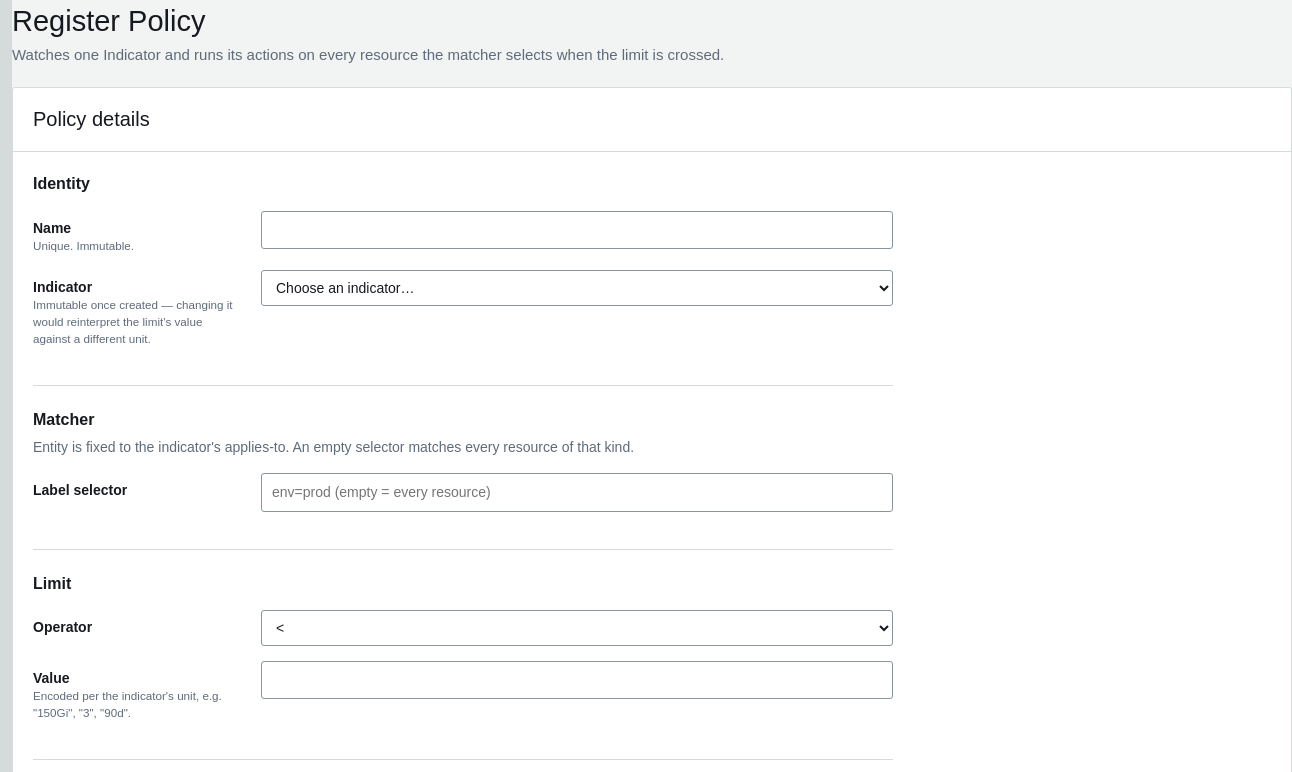
renders a whitelist-violation error inline on the offending action row
The width and height of the screenshot is (1292, 772).
Type "bad-policy" into the field labelled "Name Unique. Immutable.". click: x=577, y=230
box: [261,211,893,249]
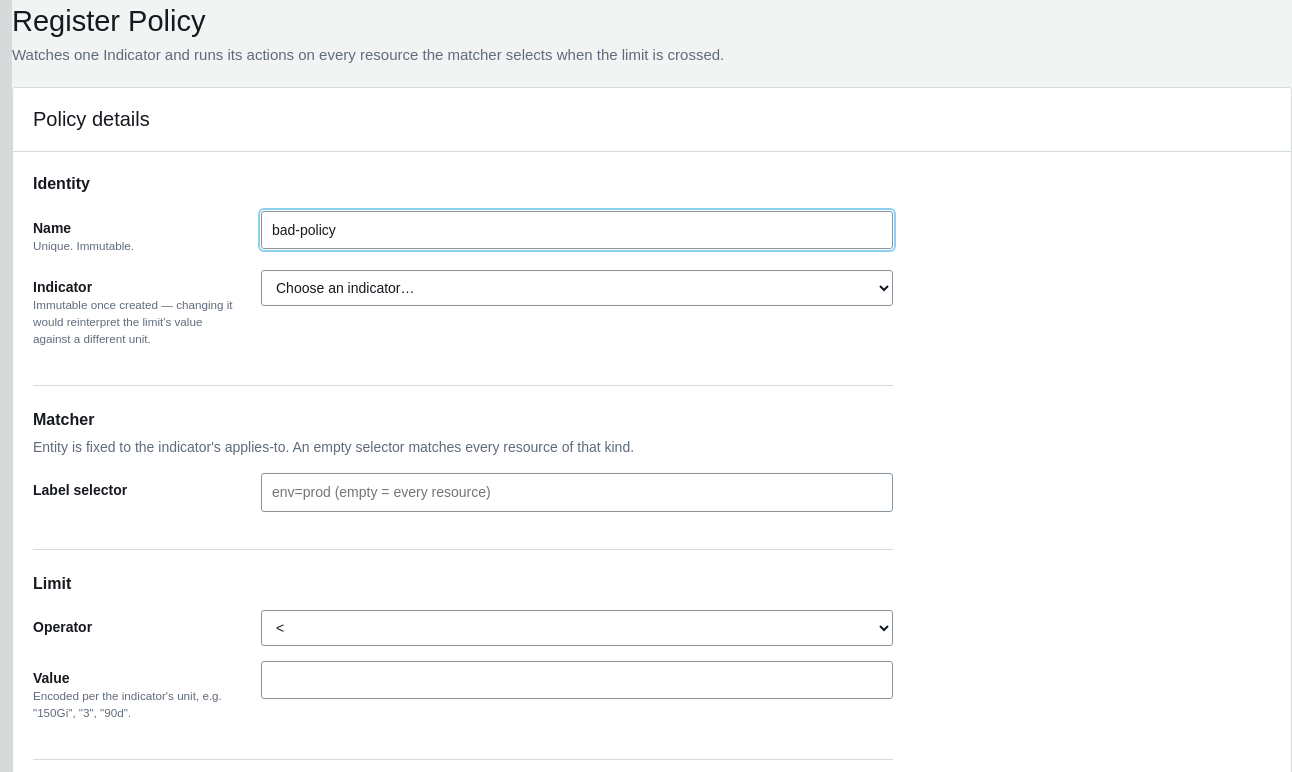
Select "kafka.topic.disk_used (bytes)" in the dropdown labelled "Indicator". click: x=577, y=288
box: [261,270,893,306]
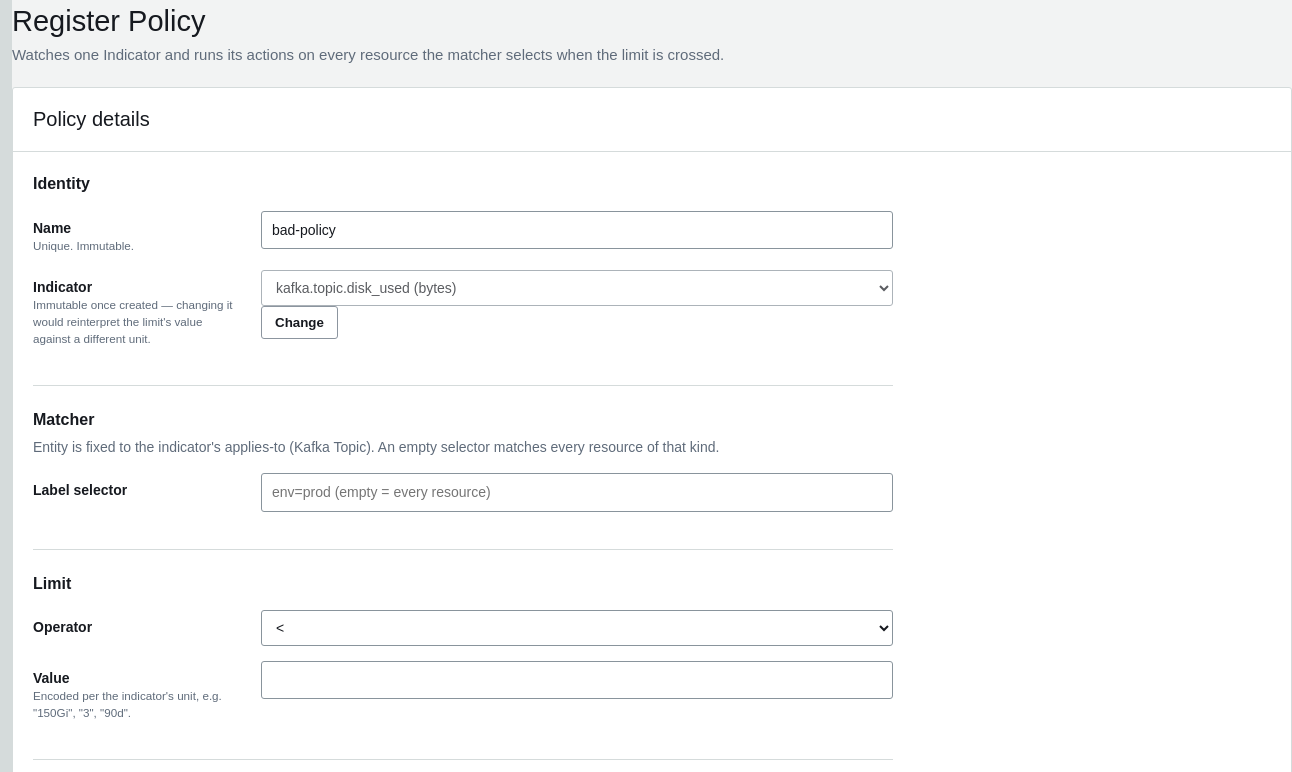
Type "1" into the field labelled "Value". click: x=577, y=680
box: [261,661,893,699]
(page scrolled)
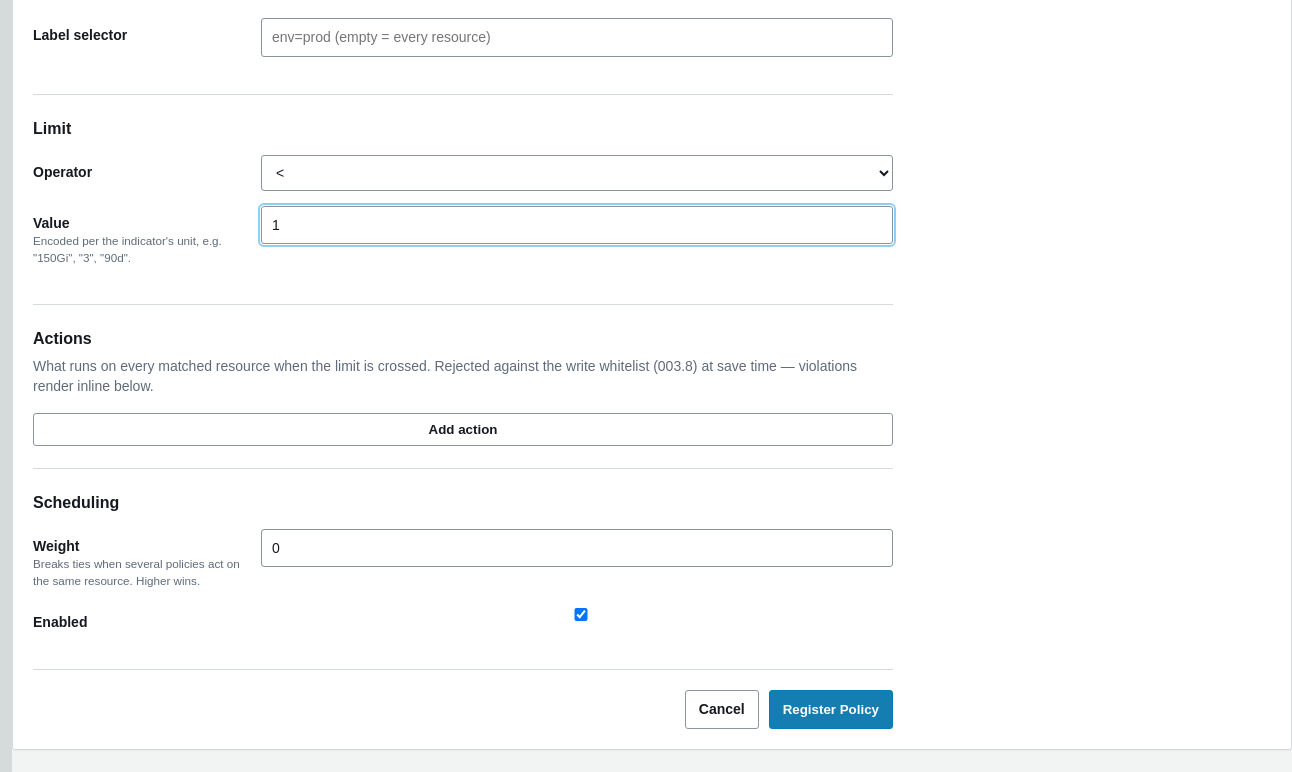
Click the button "Add action". click: x=463, y=429
box: [33,413,893,446]
(page scrolled)
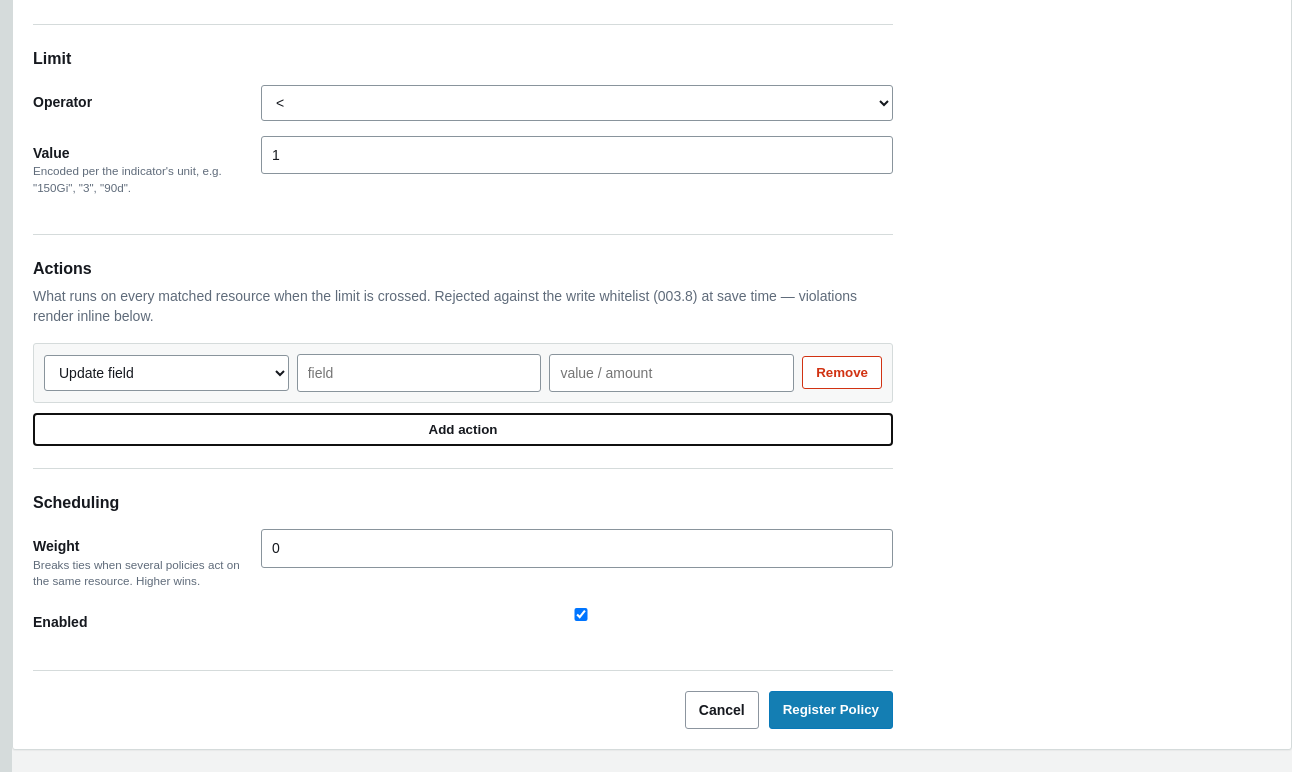
Click the button "Register Policy". click: x=831, y=710
box: [769,691,893,729]
(page scrolled)
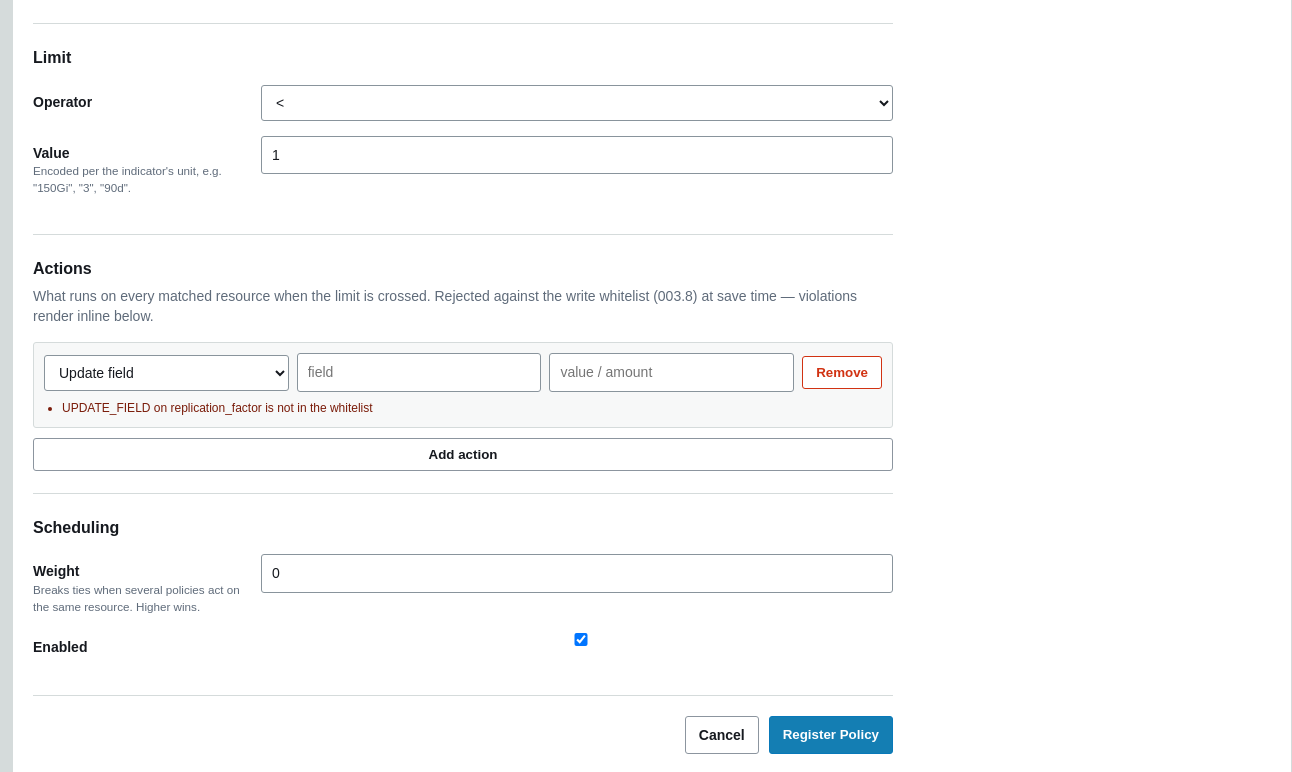
Result: the list item "UPDATE_FIELD on replication_factor is not in the whitelist" is shown at [62,401,373,415]
